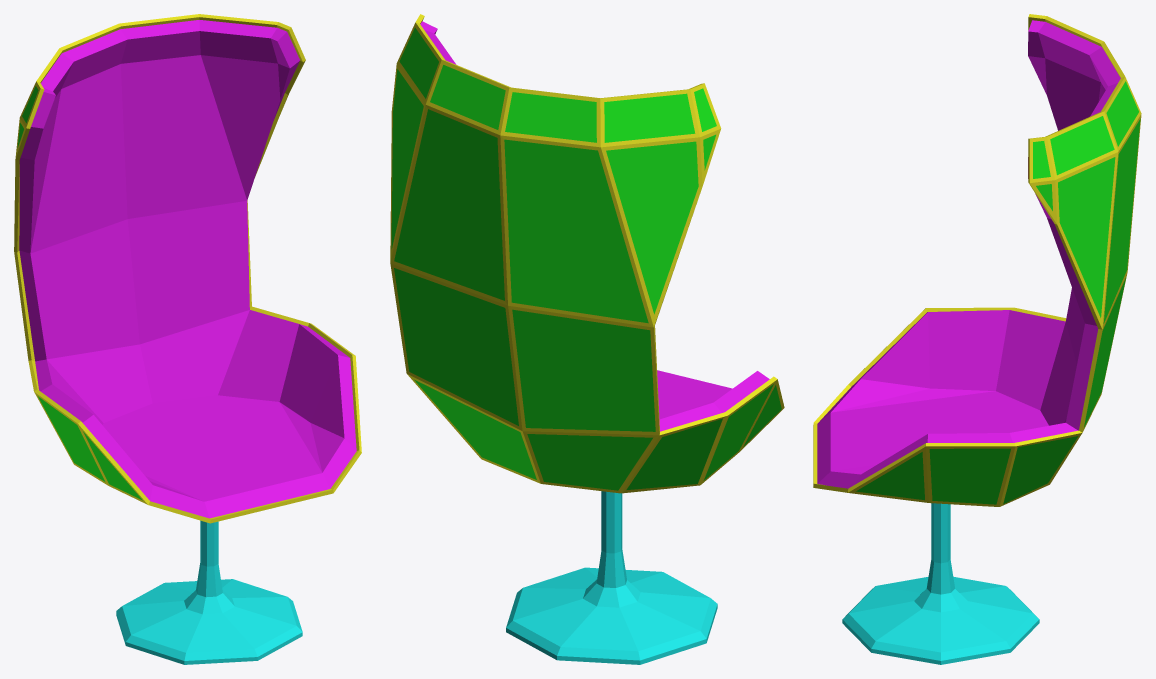
Rendered from Chair_12.fbx.
3 views of the same model, side by side, from view 1: azimuth 30°, elevation 25°; view 2: azimuth 150°, elevation 25°; view 3: azimuth 270°, elevation 25° (orthographic). The views are drawn at different scales.
Parts seen in each view (by area): view 1: Chair_12; view 2: Chair_12; view 3: Chair_12.
Part boxes in pixels (box(x1,y1,x2,y2)): Chair_12: box(14, 14, 361, 664); Chair_12: box(390, 14, 784, 664); Chair_12: box(813, 14, 1141, 664).
Bounding box in the file's own units: 76.5 × 140 × 76.12.
